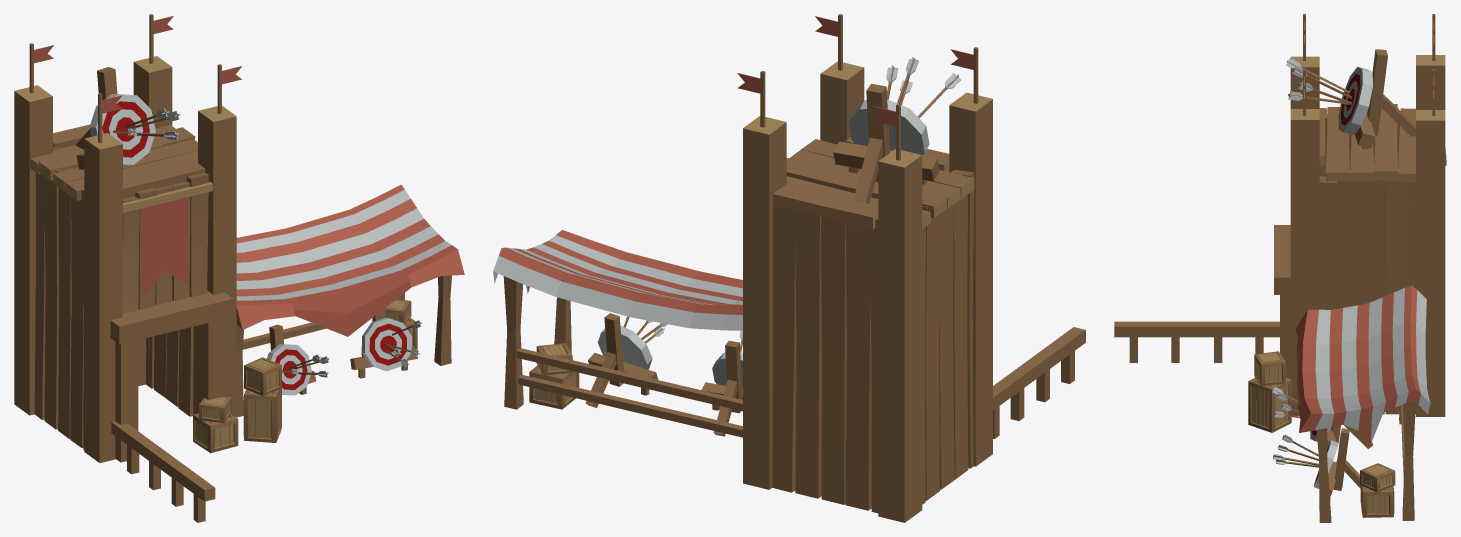
File: Archery_FirstAge_Level1.glb
3 renders of one model, left to right at view 1: azimuth 30°, elevation 25°; view 2: azimuth 150°, elevation 25°; view 3: azimuth 270°, elevation 25°, orthographic. The views are drawn at different scales.
Parts seen in each view (by area): view 1: Archery_FirstAge_Level1; view 2: Archery_FirstAge_Level1; view 3: Archery_FirstAge_Level1.
Part boxes in pixels (x1=…): Archery_FirstAge_Level1: x1=14, y1=14, x2=464, y2=522; Archery_FirstAge_Level1: x1=493, y1=14, x2=1085, y2=522; Archery_FirstAge_Level1: x1=1114, y1=14, x2=1446, y2=522.
Bounding box in the file's own units: 1.23 × 1.14 × 1.
1 material, 1 textured.
